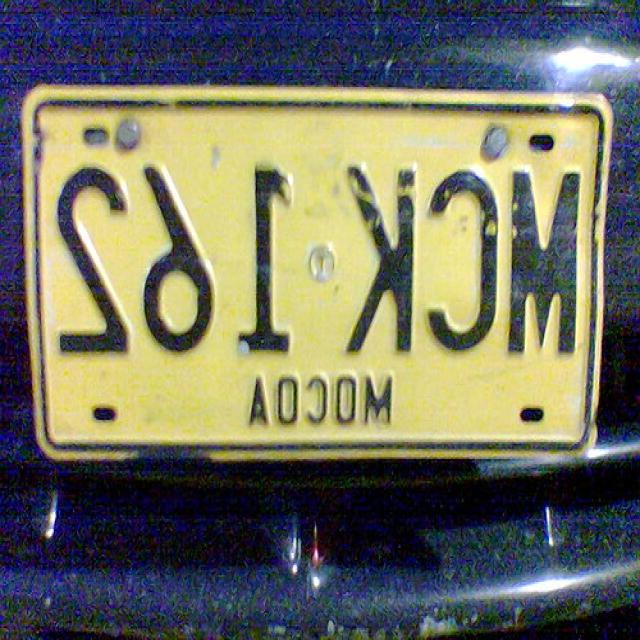placas: (48, 151, 592, 373)
